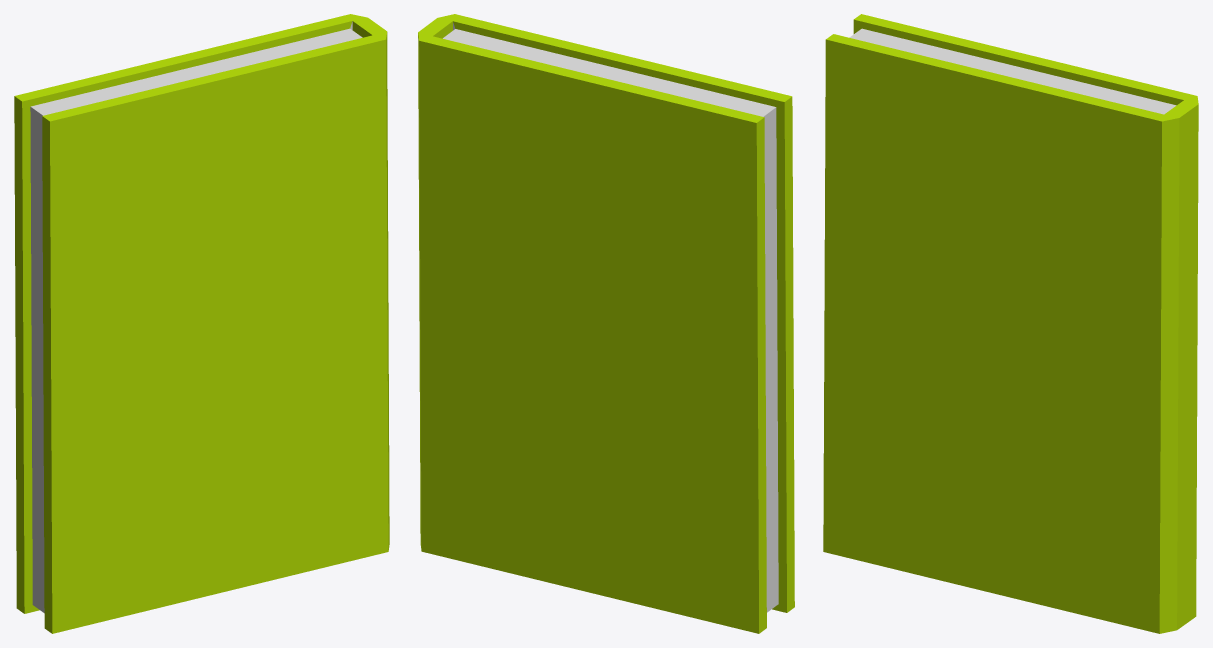
File: greenbook.glb
3 renders of one model, left to right at view 1: azimuth 30°, elevation 25°; view 2: azimuth 150°, elevation 25°; view 3: azimuth 330°, elevation 25°, orthographic.
Visible parts, largest first — view 1: Cube.019, Cube.019_0.001; view 2: Cube.019, Cube.019_0.001; view 3: Cube.019, Cube.019_0.001.
Part boxes in pixels (x1,y1,x2,y2): Cube.019: (14,14,389,633); Cube.019_0.001: (30,21,362,613); Cube.019: (418,14,794,633); Cube.019_0.001: (443,22,778,612); Cube.019: (823,14,1198,633); Cube.019_0.001: (849,28,1176,114).
Size of the model in its own units: 0.2548 by 0.3603 by 0.0485.
